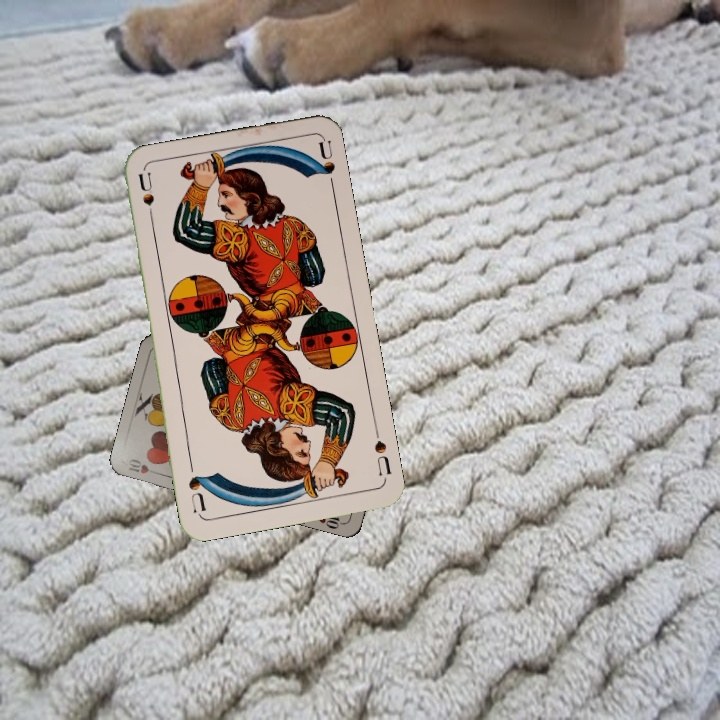H10: (124, 455, 163, 478)
SU: (134, 170, 157, 229), (370, 436, 394, 482)
